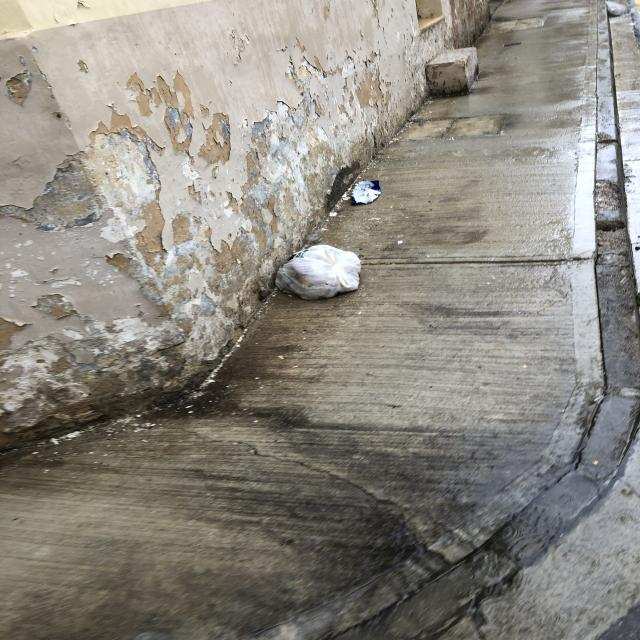Organic Waste -White Bag-: (276, 244, 362, 300)
Other: (352, 180, 386, 207)
